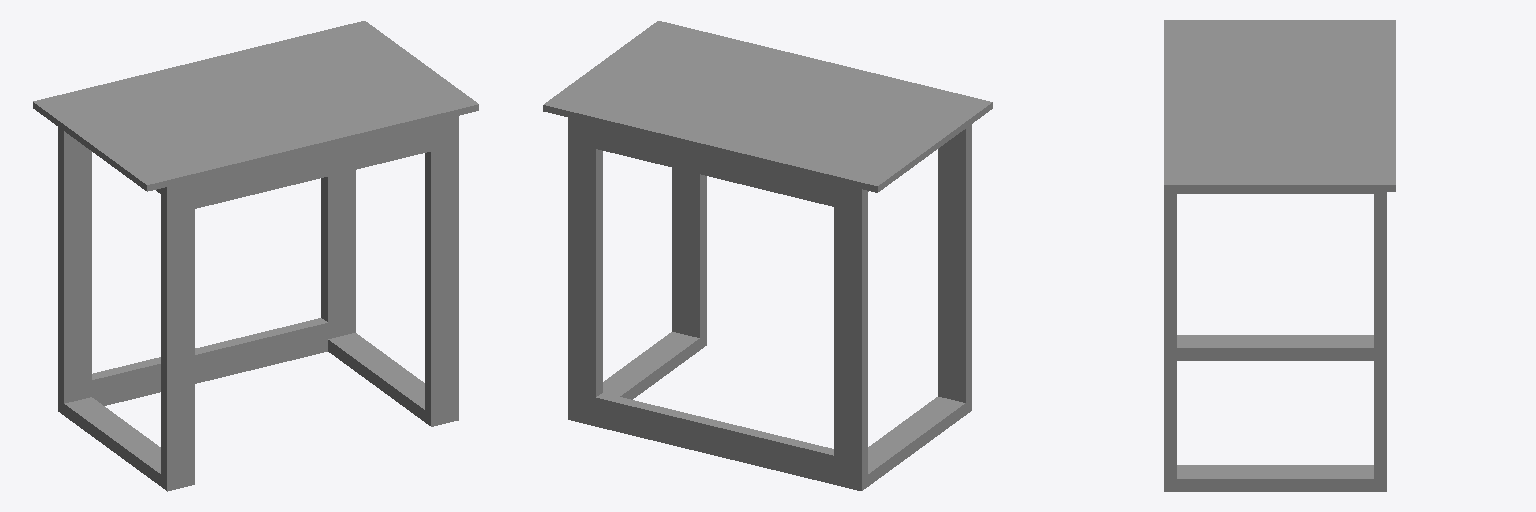
URDF robot description (table):
<robot name="table">

  <link name="table_body">

    <inertial>
      <mass value="1.0" />
      <origin xyz="0 0 0" />
      <inertia  ixx="1.0" ixy="0.0"  ixz="0.0"  iyy="1.0"  iyz="0.0"  izz="1.0" />
    </inertial>

    <visual>
      <origin rpy="0 0 0" xyz="0 0 0"/>
      <geometry>
        <mesh filename="package://pr2_tutorial/worlds/table.dae"/>
      </geometry>
    </visual>

    <collision>
      <origin rpy="0 0 0" xyz="0 0 0"/>
      <geometry>
        <mesh filename="package://pr2_tutorial/worlds/table.dae"/>
      </geometry>
    </collision>

  </link>

</robot>

--- Facts derived from the render (not from the file) ---
3 views of the same robot in one strip: view 1: azimuth 30°, elevation 25°; view 2: azimuth 150°, elevation 25°; view 3: azimuth 270°, elevation 25° (orthographic).
Robot: table — 1 links, 0 joints (none); root link table_body; default pose: all joints at 0.
Links seen in each view (by area): view 1: table_body; view 2: table_body; view 3: table_body.
Boxes of the visible links, x1,y1,x2,y2 form: table_body: [33, 21, 478, 491]; table_body: [543, 21, 992, 490]; table_body: [1164, 20, 1395, 491].
Bounding box of the posed robot: 0.855 × 0.51 × 0.765 m (x, y, z).
Meshes: 1 distinct files referenced, 1 mesh visuals loaded (1 Collada DAE).